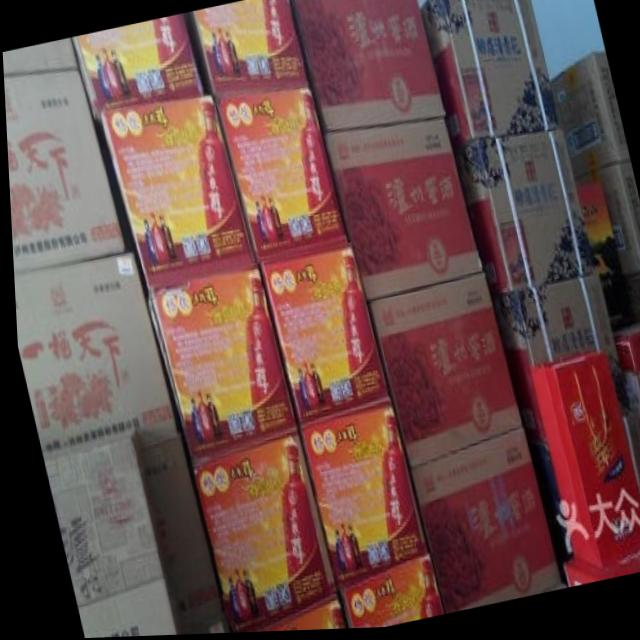box: (11, 254, 171, 455), (38, 429, 212, 605), (364, 274, 518, 471), (143, 269, 291, 470), (506, 355, 640, 577), (188, 426, 330, 634), (99, 96, 250, 291), (321, 120, 479, 306), (403, 429, 556, 615), (291, 400, 421, 595), (252, 244, 386, 426), (209, 93, 346, 269), (452, 129, 593, 299), (3, 71, 122, 272), (290, 0, 443, 136), (420, 0, 557, 148), (485, 272, 617, 383), (73, 14, 204, 119), (190, 0, 308, 92), (548, 52, 627, 185), (72, 581, 222, 638), (330, 555, 437, 631), (574, 186, 628, 331), (571, 169, 640, 278), (607, 315, 640, 517), (224, 595, 338, 634), (549, 552, 640, 590), (2, 37, 77, 76), (619, 275, 640, 319)
